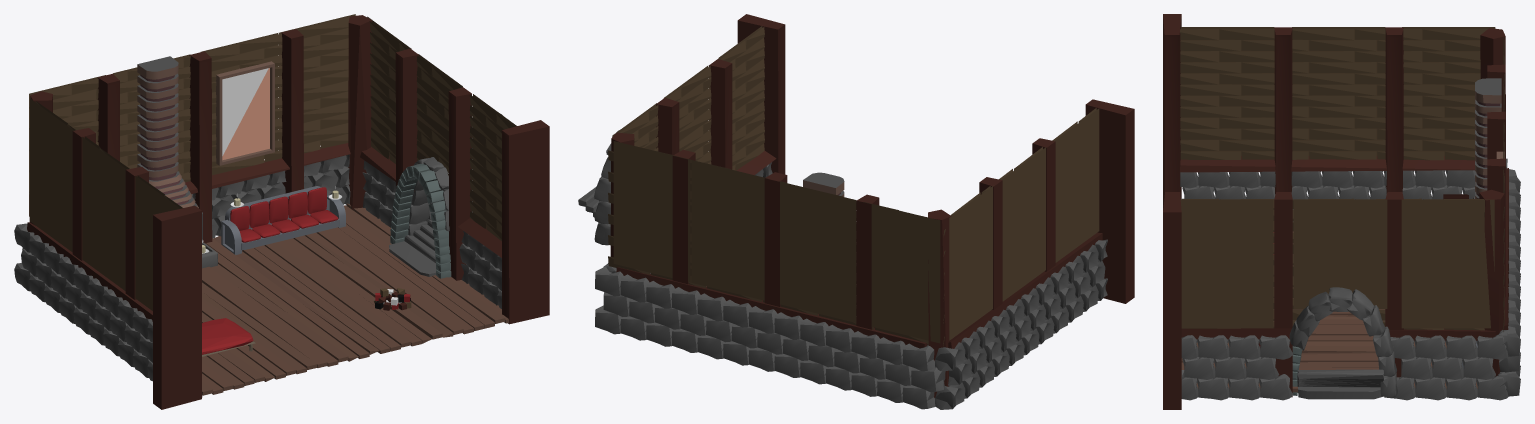
Rendered from 1_levelOPT.fbx.
The picture shows the model from 3 angles, left to right: view 1: azimuth 30°, elevation 25°; view 2: azimuth 150°, elevation 25°; view 3: azimuth 270°, elevation 25°; orthographic projection. The views are drawn at different scales.
Parts seen in each view (by area): view 1: wall wood, Floor, Plane, Door.001, Kamin, picture, Divan, bed, Cube; view 2: wall wood, Plane, Door.001, Kamin; view 3: wall wood, Plane, Door.001, Floor, Kamin.
Boxes of the visible parts, x1,y1,x2,y2 form: wall wood: (14, 15, 549, 409); Floor: (202, 203, 508, 397); Plane: (29, 14, 516, 310); Door.001: (389, 113, 502, 278); Kamin: (137, 56, 217, 268); picture: (215, 61, 274, 165); Divan: (221, 186, 345, 254); bed: (202, 318, 255, 356); Cube: (374, 288, 411, 310); wall wood: (595, 14, 1134, 409); Plane: (612, 26, 1099, 343); Door.001: (578, 129, 620, 245); Kamin: (803, 172, 844, 196); wall wood: (1163, 14, 1520, 409); Plane: (1180, 27, 1495, 328); Door.001: (1289, 287, 1397, 399); Floor: (1181, 231, 1477, 392); Kamin: (1473, 78, 1501, 198).
Bounding box in the file's own units: 1628 × 686 × 1067.
